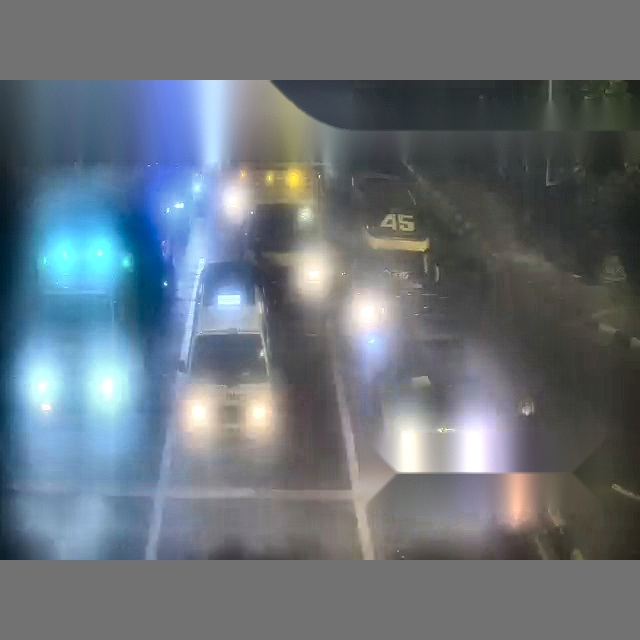Bis: (0, 68, 191, 558)
